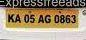0: (23, 14, 30, 25), (54, 14, 59, 24)
3: (70, 14, 77, 24)
5: (29, 15, 36, 24)
6: (66, 14, 71, 24)
8: (59, 14, 66, 24)
A: (15, 14, 22, 25), (38, 14, 45, 24)
G: (44, 14, 52, 24)
K: (7, 13, 15, 24)
